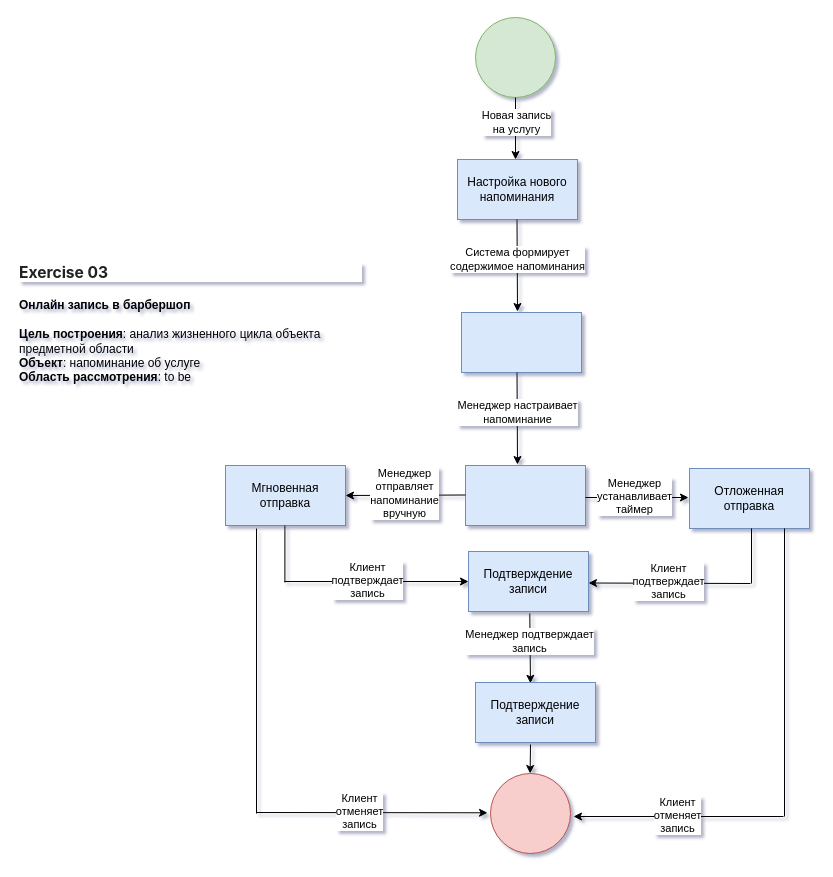
This 833x877 diagram has some shape labels left out. Each missing label, with the centre of its shape:
"Написание текстового поля" belongs at [521,342].
"Настройка параметров отправки" belongs at [525,495].
